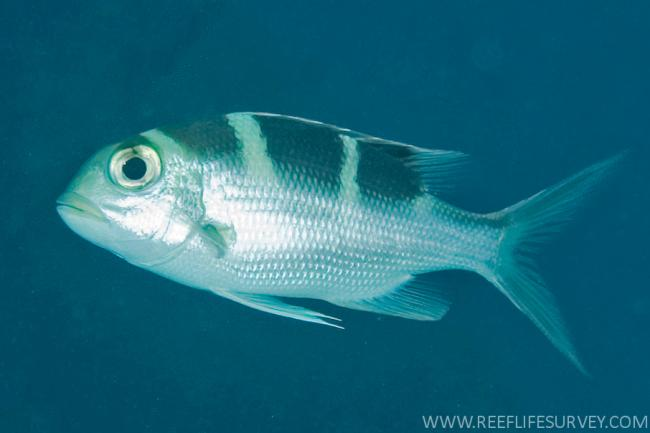fish: (56, 112, 631, 379)
